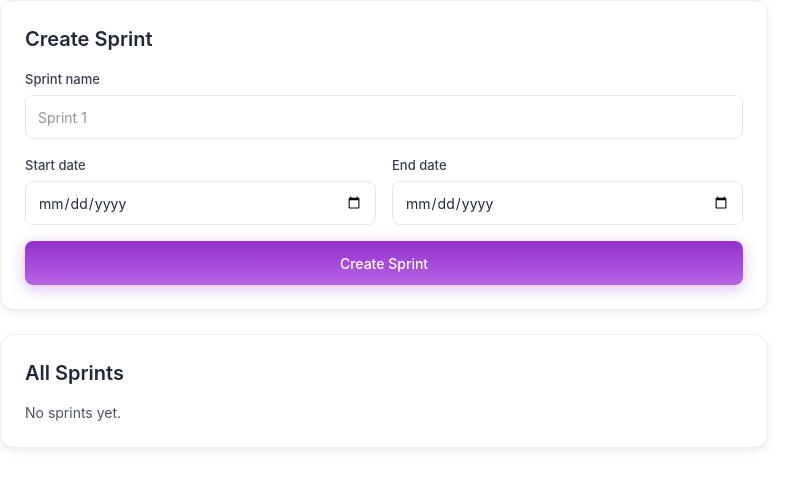
it: SprintManagementTab › validates that the end date is on or after the start date
In the field with placeholder "Sprint 1": [384, 117] box [25,95,743,139], type "Sprint A"
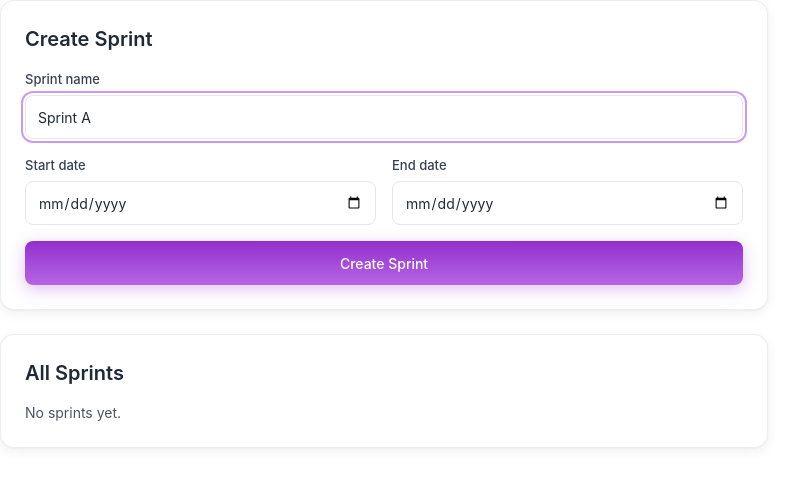
In the date field labelled "Start date": [200, 203] box [25,181,376,225], type "2026-02-10"
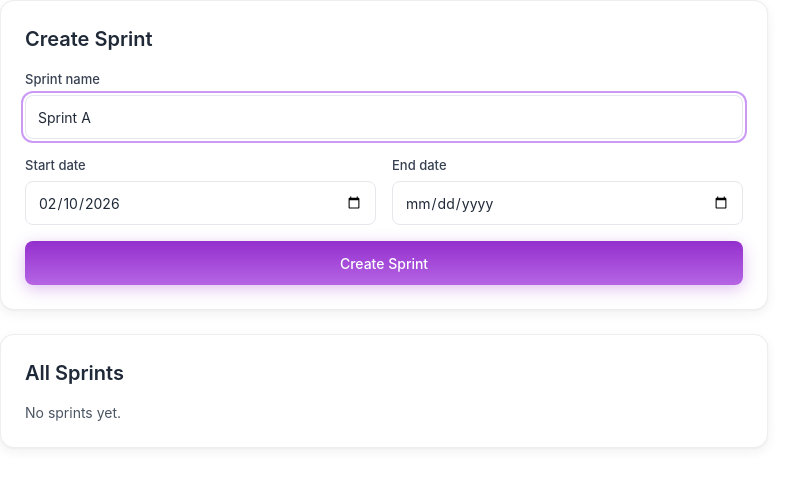
In the date field labelled "End date": [568, 203] box [392,181,743,225], type "2026-02-01"
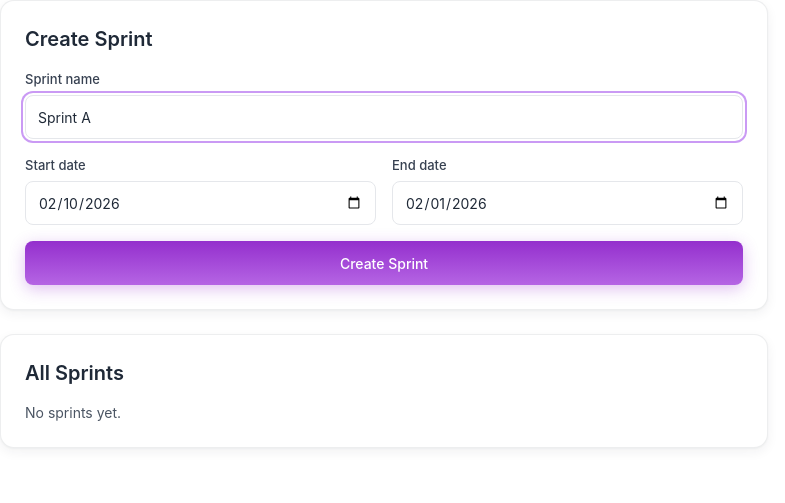
Click the button "Create Sprint": [384, 263] box [25,241,743,285]
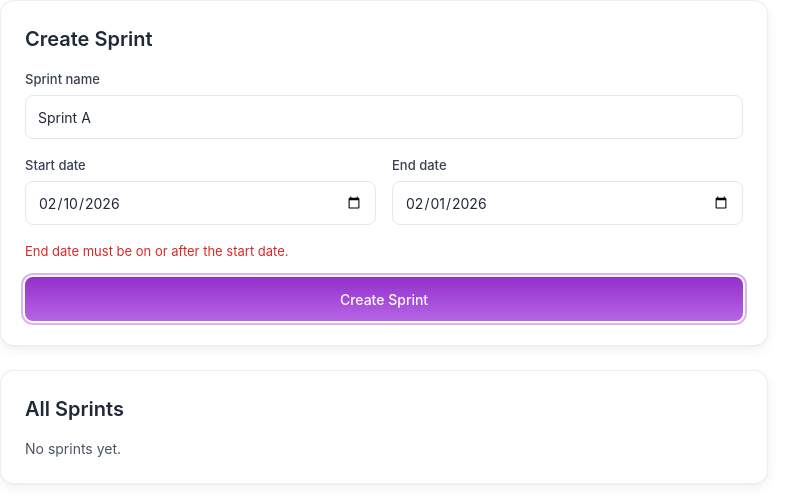
Check: the text "End date must be on or after the start date." is shown, box [25,243,288,259]
